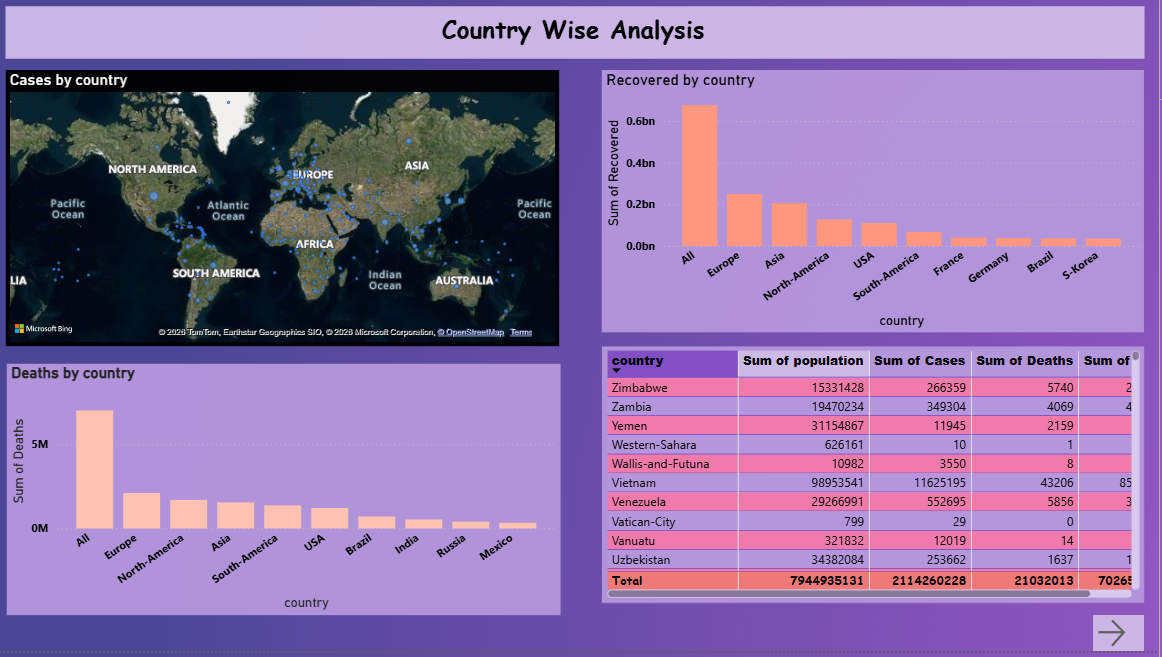

The dashboard page shown, as its layout file describes it:
{"tool":"powerbi","page":{"name":"Page 2","canvas":[1280,720],"ordinal":1},"visuals":[{"type":"textbox","box":[13.7,12.3,1250.1,57.6],"z":0},{"type":"map","title":" Cases by country","fields":{"Category":["covid_19.country"],"Size":["Sum(covid_19.Cases)"]},"box":[13.7,82.3,607.9,303.3],"z":1000},{"type":"clusteredColumnChart","title":"Deaths by country","fields":{"Y":["Sum(covid_19.Deaths)"],"Category":["covid_19.country"]},"box":[15.1,404.8,607.9,275.8],"z":2000},{"type":"clusteredColumnChart","title":" Recovered by country","fields":{"Y":["Sum(covid_19.Recovered)"],"Category":["covid_19.country"]},"box":[668.3,82.3,595.5,288.2],"z":3000},{"type":"tableEx","fields":{"Values":["covid_19.country","Sum(covid_19.population)","Sum(covid_19.Cases)","Sum(covid_19.Deaths)","Sum(covid_19.Tests)"]},"box":[668.3,385.6,595.5,281.3],"z":4000},{"type":"actionButton","box":[1207.6,680.6,56.3,39.8],"z":5000}]}

Visuals, with their boxes in screenshot pixels (x1, y1, x2, y2), scaled from the page's 1280x720 canvas onto the 1162x657 screenshot:
textbox: <box>12,11,1147,64</box>
" Cases by country" map: <box>12,75,564,352</box>
"Deaths by country" clusteredColumnChart: <box>14,369,566,621</box>
" Recovered by country" clusteredColumnChart: <box>607,75,1147,338</box>
tableEx - covid_19.country x Sum(covid_19.population): <box>607,352,1147,609</box>
actionButton: <box>1096,621,1147,656</box>
